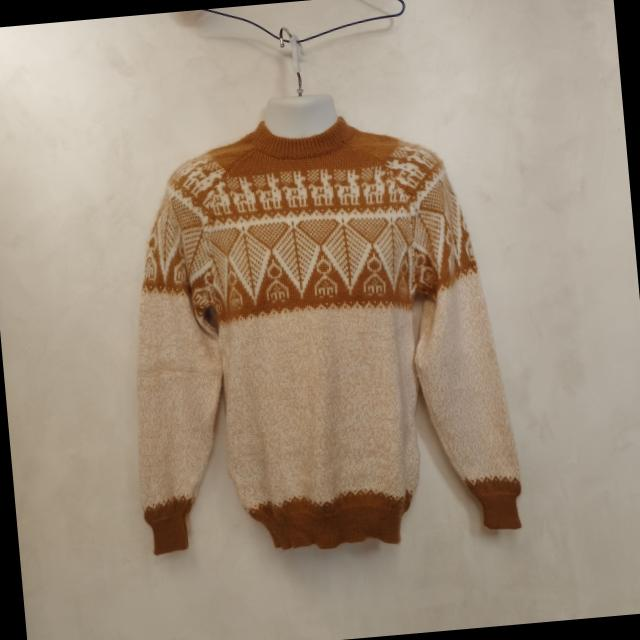Chompa: (106, 80, 527, 567)
